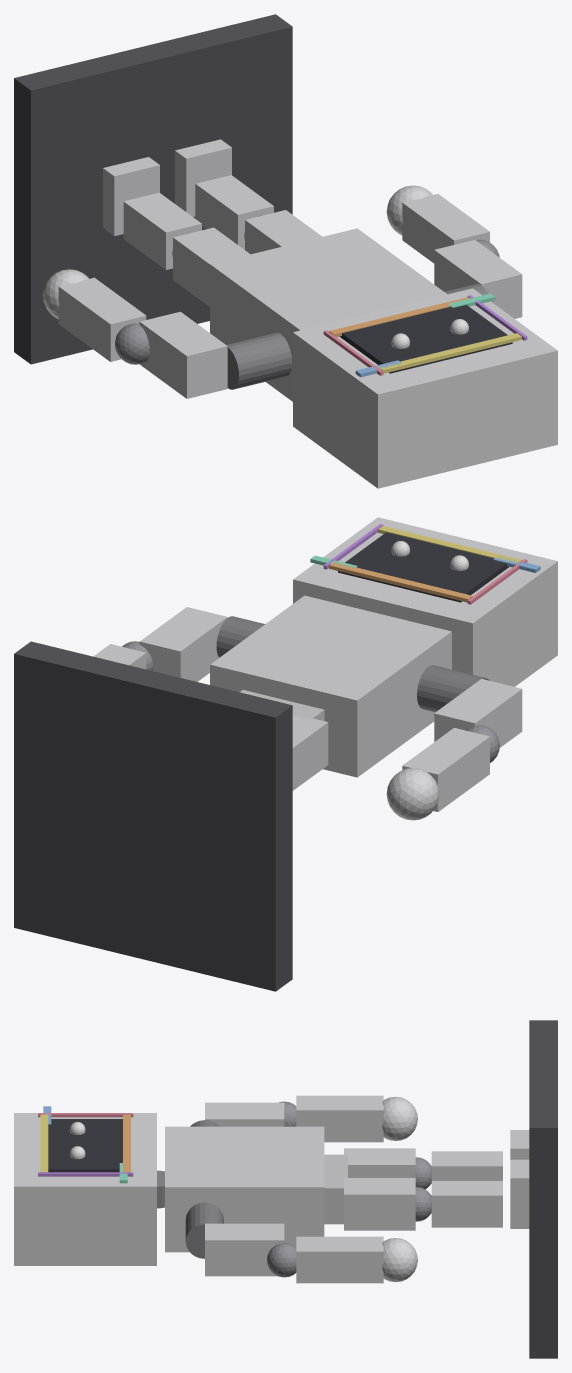
Rendered from robot_lowpoly.glb.
3 renders of one model, top to bottom at view 1: azimuth 30°, elevation 25°; view 2: azimuth 150°, elevation 25°; view 3: azimuth 270°, elevation 25°, orthographic. The views are drawn at different scales.
Visible parts, largest first — view 1: world; view 2: world; view 3: world.
Boxes of the visible parts, left/top/right/bottom form: world: left=14, top=14, right=557, bottom=488; world: left=14, top=517, right=557, bottom=991; world: left=14, top=1020, right=557, bottom=1358.
Size of the model in its own units: 2.38 by 1.6 by 3.42.
